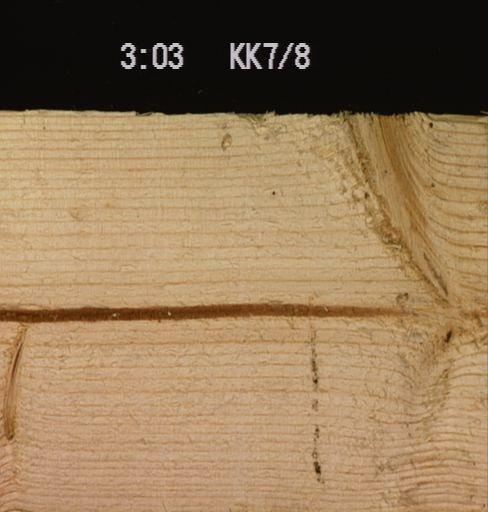small_knot: (437, 327, 459, 346)
